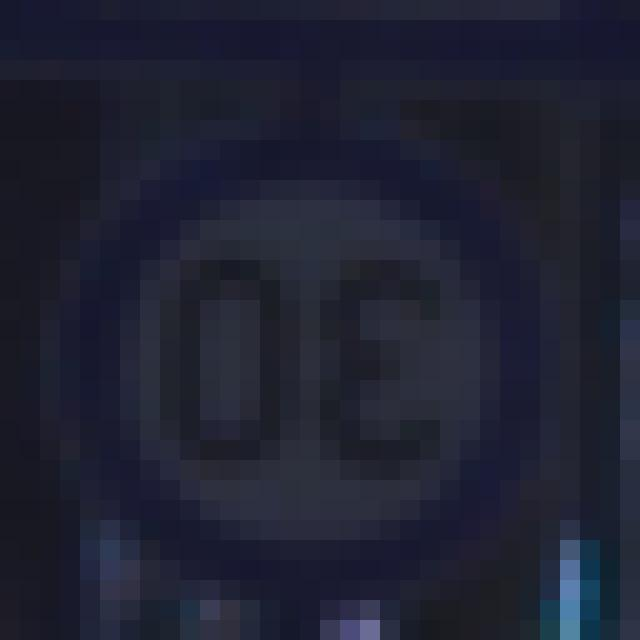SPEED LIMIT 30: (60, 137, 558, 575)
